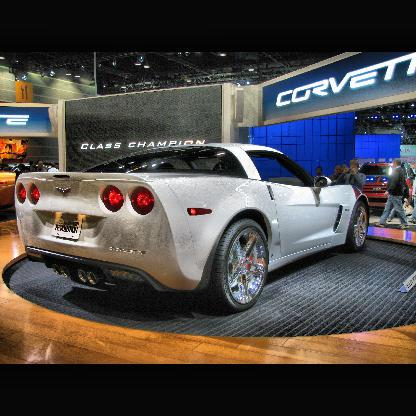Chevrolet Corvette Ron Fellows Edition Z06 2007: (14, 143, 372, 316)
